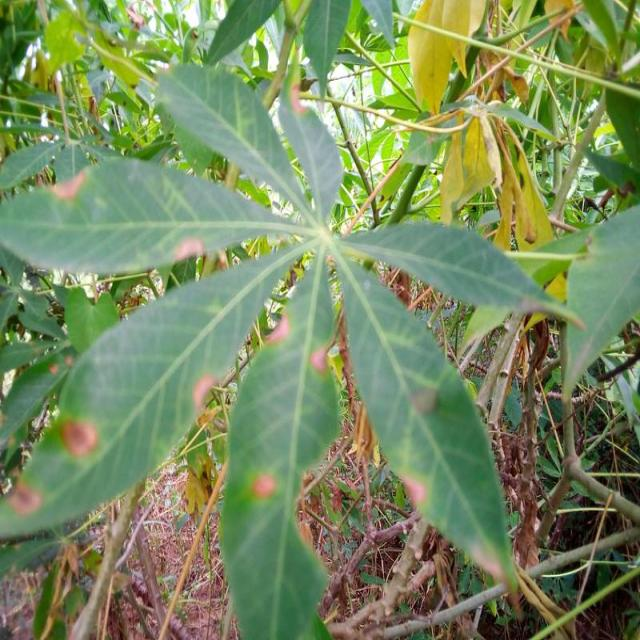cassava leaf: (2, 237, 314, 542), (338, 253, 520, 597), (219, 244, 342, 638), (1, 154, 309, 275), (336, 218, 585, 332), (155, 61, 317, 223), (560, 203, 640, 404)
